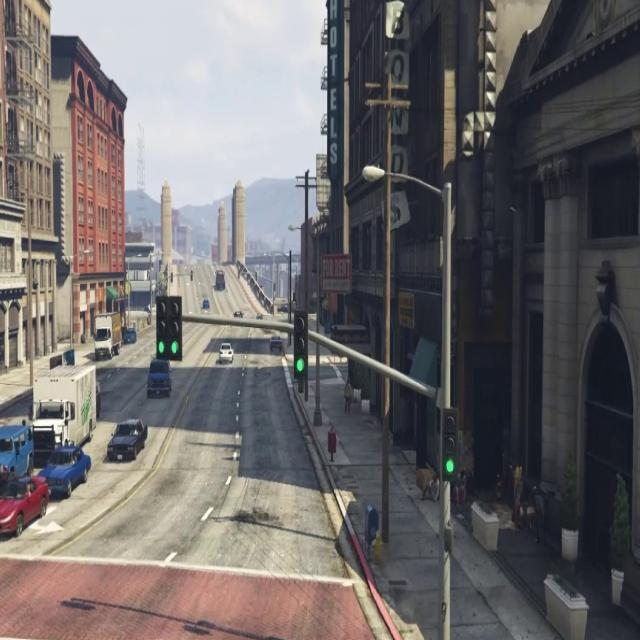Green-Signal: (148, 288, 190, 380), (288, 294, 316, 400), (440, 408, 462, 497)
